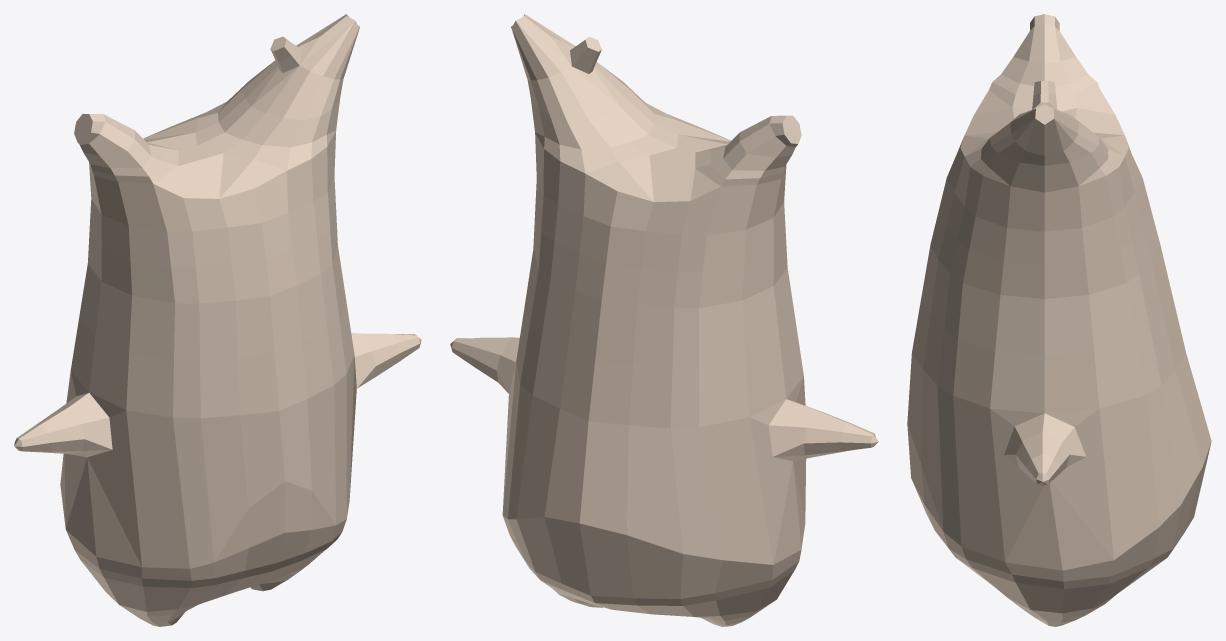
Rendered from frame_0003.obj.
3 renders of one model, left to right at view 1: azimuth 30°, elevation 25°; view 2: azimuth 150°, elevation 25°; view 3: azimuth 270°, elevation 25°, orthographic.
Parts seen in each view (by area): view 1: korok; view 2: korok; view 3: korok.
Boxes of the visible parts, x1,y1,x2,y2 form: korok: (14,14,421,626); korok: (450,14,878,626); korok: (907,14,1211,626).
Bounding box in the file's own units: 1.67 × 2.16 × 1.07.
